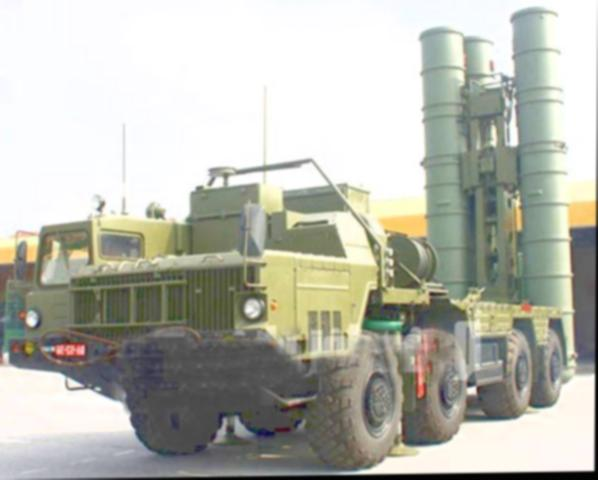License_Plate: (49, 342, 87, 359)
